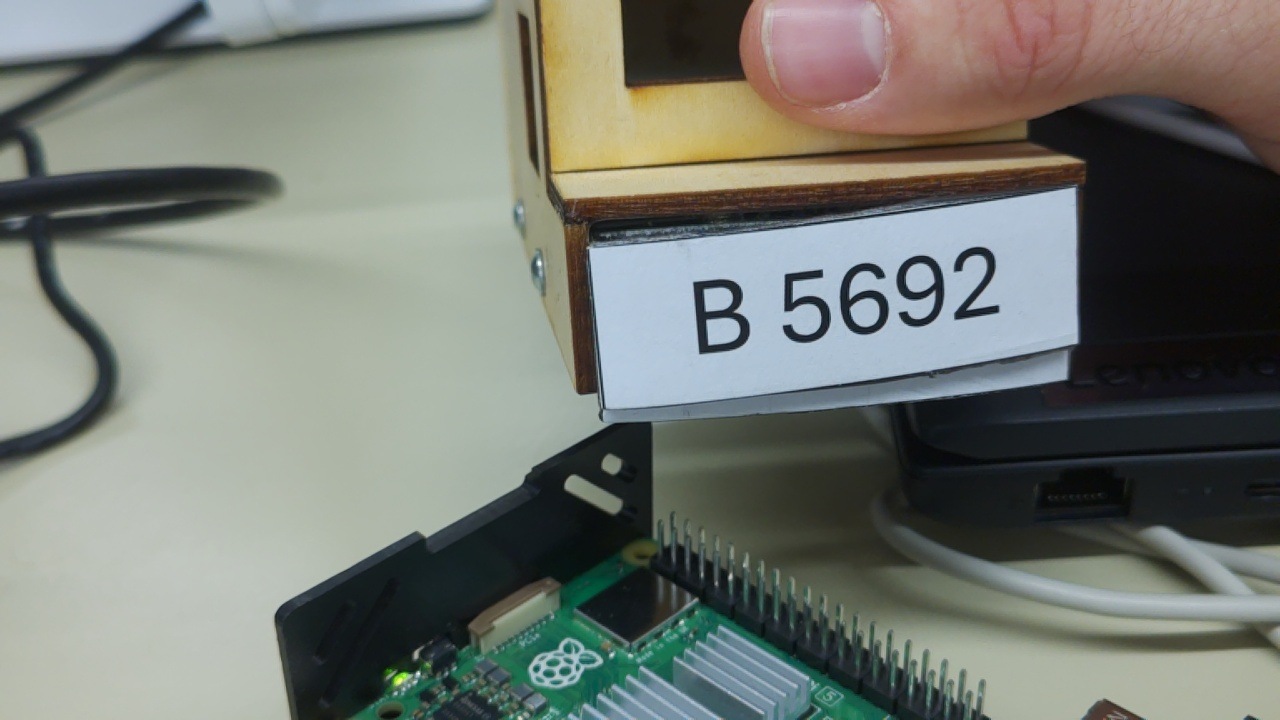license_plate: (587, 176, 1084, 415)
